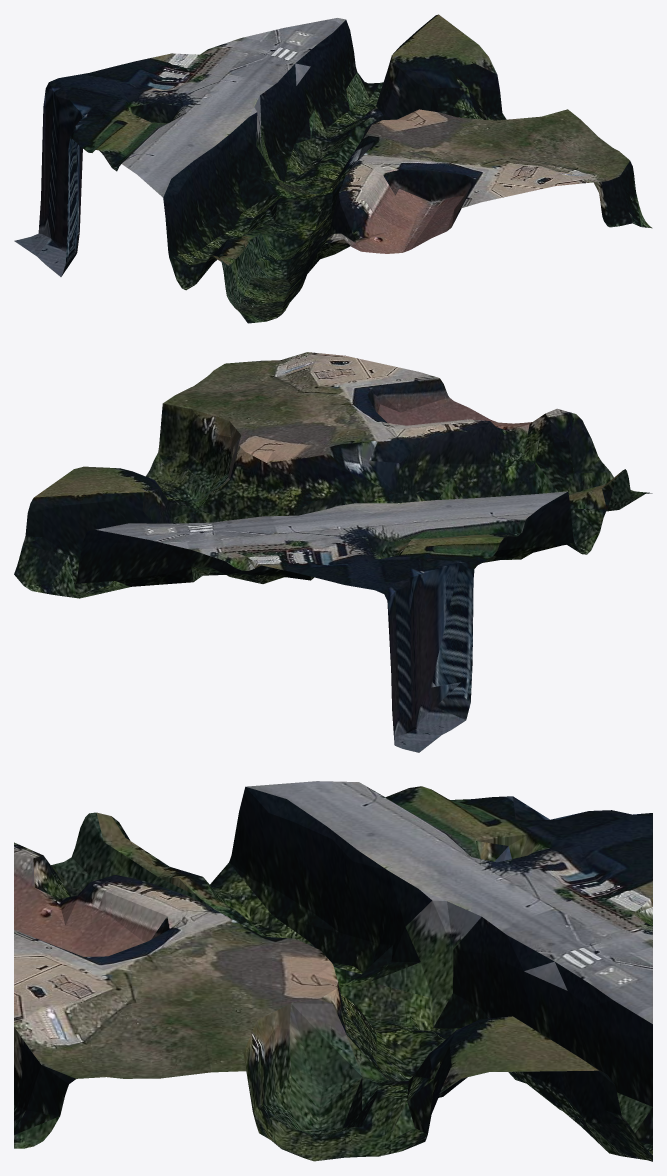
File: map_15_8177_13786.dae
3 views of the same model, one above another, from view 1: azimuth 30°, elevation 25°; view 2: azimuth 150°, elevation 25°; view 3: azimuth 270°, elevation 25° (orthographic). The views are drawn at different scales.
Visible parts, largest first — view 1: Ter0; view 2: Ter0; view 3: Ter0.
Boxes of the visible parts, left/top/right/bottom form: Ter0: left=14, top=14, right=652, bottom=323; Ter0: left=14, top=352, right=652, bottom=752; Ter0: left=14, top=781, right=652, bottom=1161.
Bounding box in the file's own units: 63.87 × 63.88 × 23.86.
Materials: 3 (3 with a texture image).
